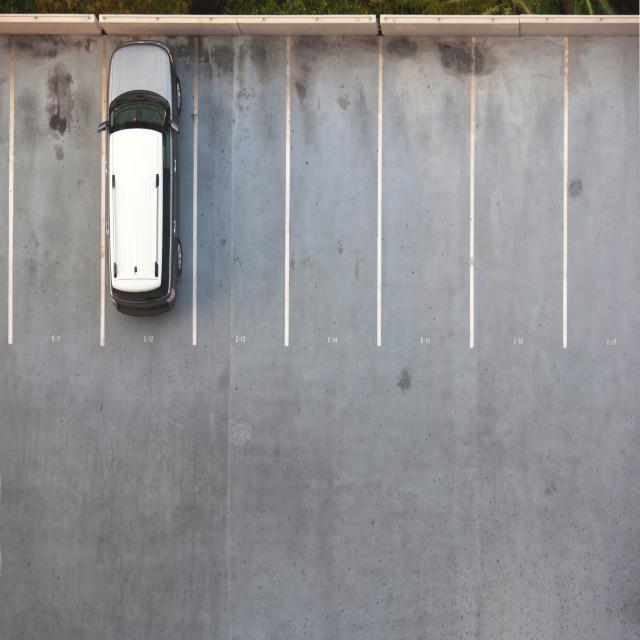car: (100, 40, 198, 354)
free: (472, 37, 570, 356), (376, 38, 476, 350), (8, 38, 106, 354), (192, 41, 292, 349), (286, 37, 384, 350)
